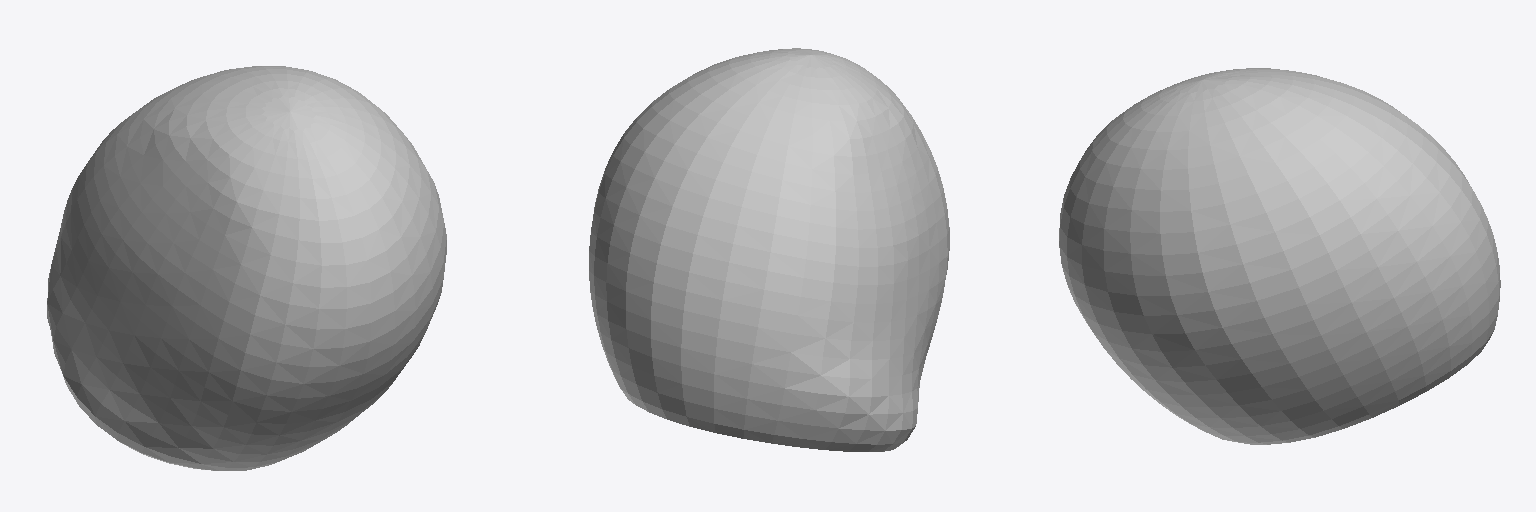
3 views of the same model, side by side, from view 1: azimuth 30°, elevation 25°; view 2: azimuth 150°, elevation 25°; view 3: azimuth 270°, elevation 25° (orthographic).
Visible parts, largest first — view 1: 7_cancan_dress_body0_model0.007; view 2: 7_cancan_dress_body0_model0.007; view 3: 7_cancan_dress_body0_model0.007.
Part boxes in pixels (left/top/right/bottom): 7_cancan_dress_body0_model0.007: left=47, top=66, right=446, bottom=470; 7_cancan_dress_body0_model0.007: left=589, top=48, right=949, bottom=451; 7_cancan_dress_body0_model0.007: left=1059, top=68, right=1500, bottom=444.
Bounding box in the file's own units: 6 × 6.53 × 7.34.